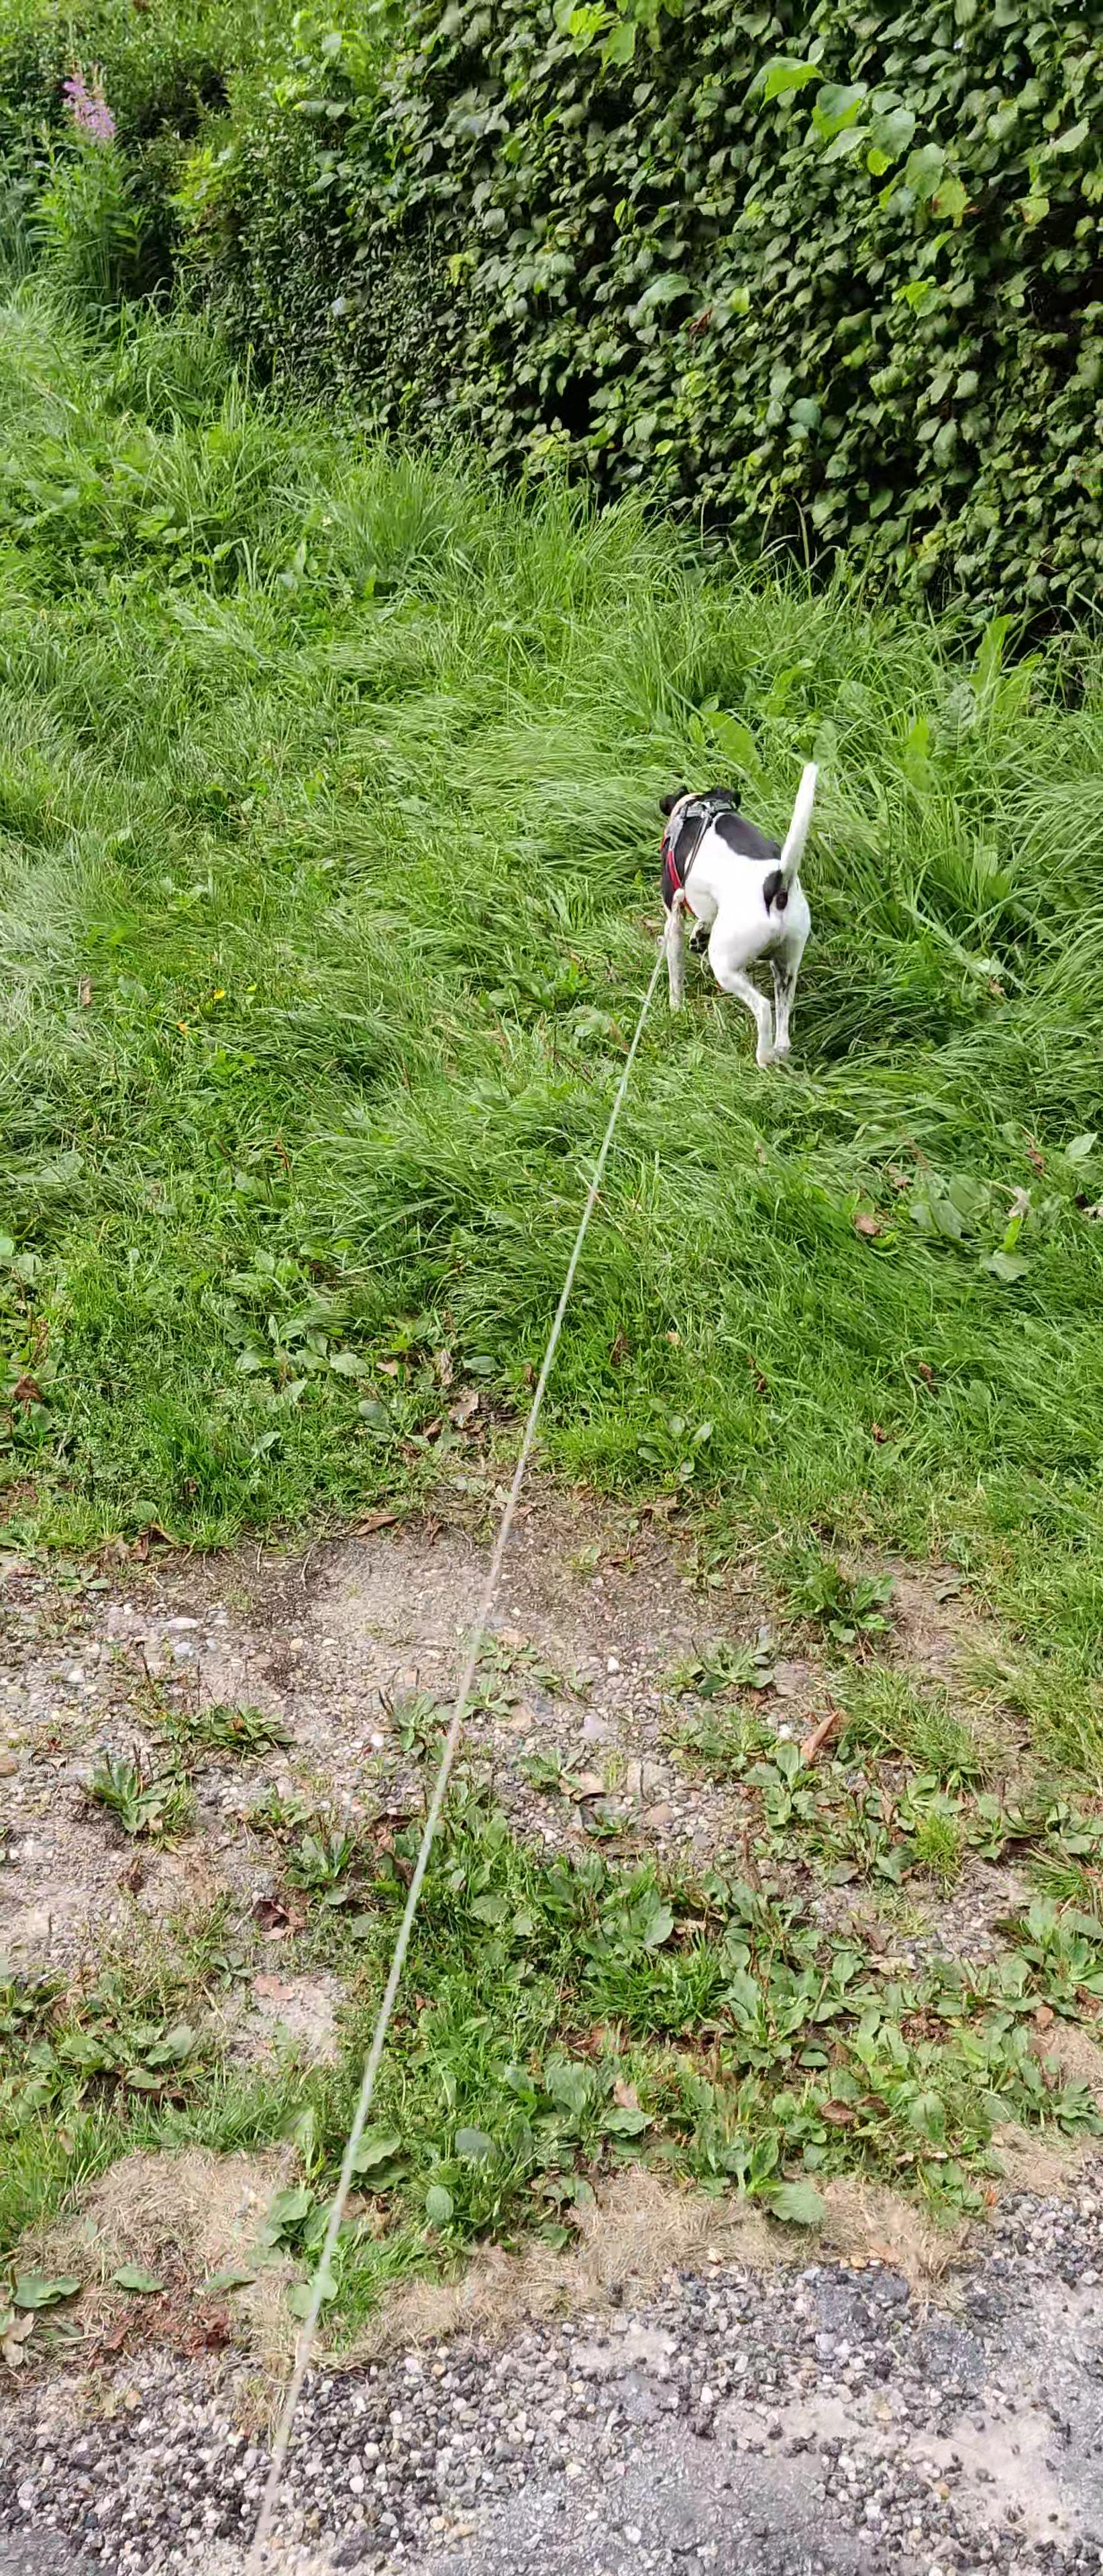Dog: (649, 751, 824, 1078)
